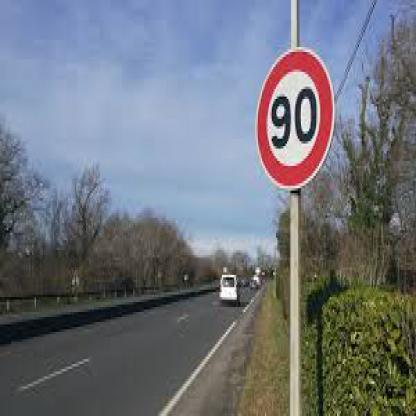Speed Limit -90-: (229, 17, 356, 201)
